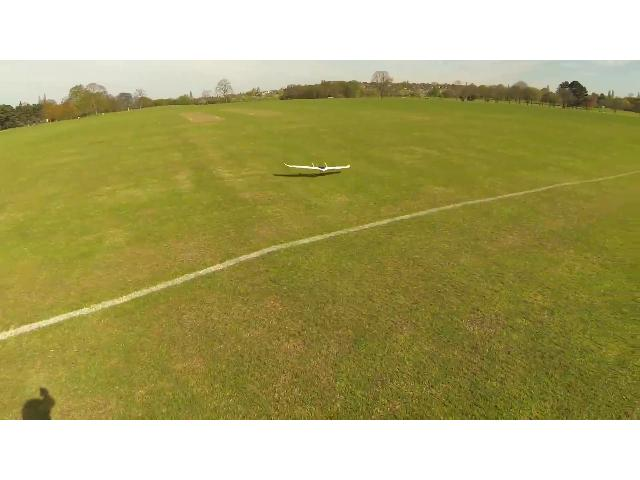Anti-Drone: (276, 148, 360, 182)
